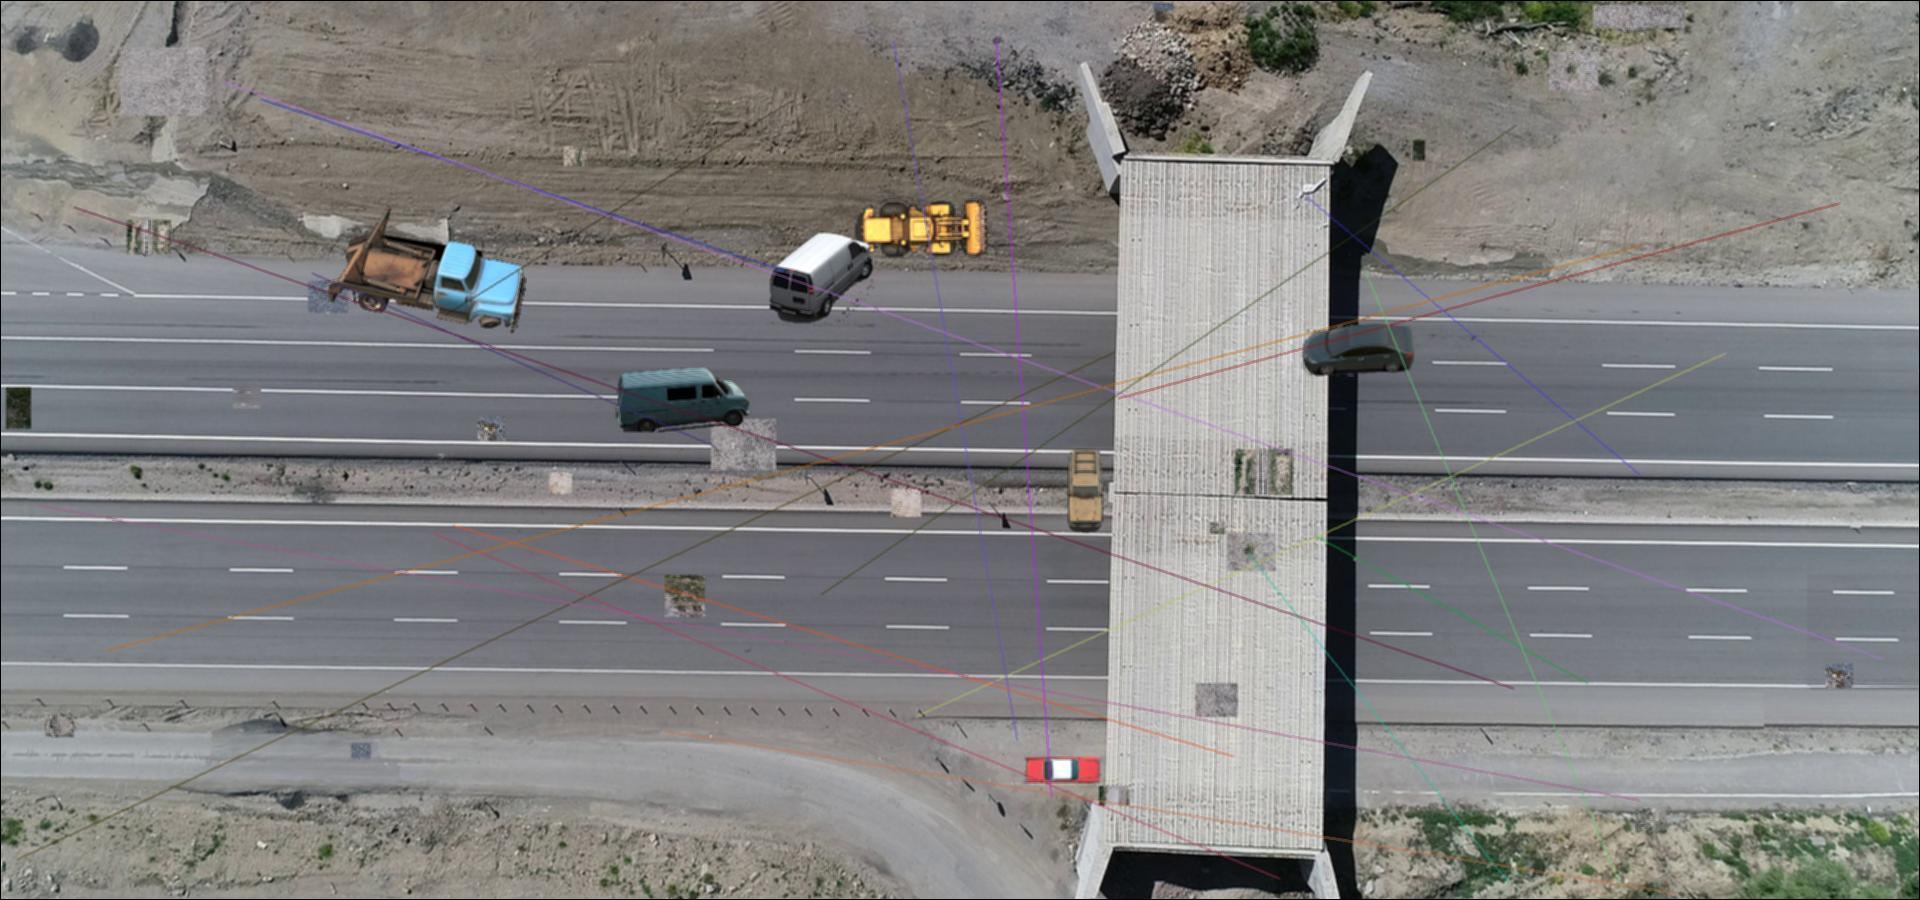arac: (329, 206, 529, 333), (770, 231, 874, 323), (853, 196, 989, 260), (616, 369, 749, 432), (1300, 322, 1417, 376), (1065, 447, 1107, 533), (1022, 754, 1102, 785)
